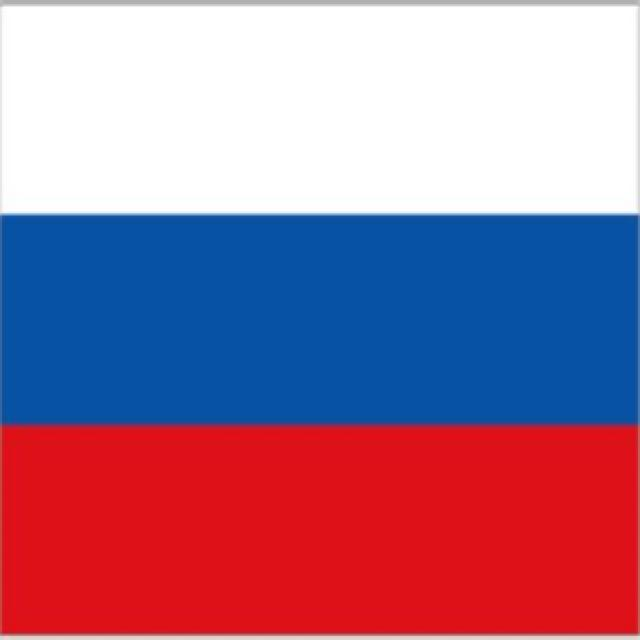russia: (0, 1, 640, 622)
